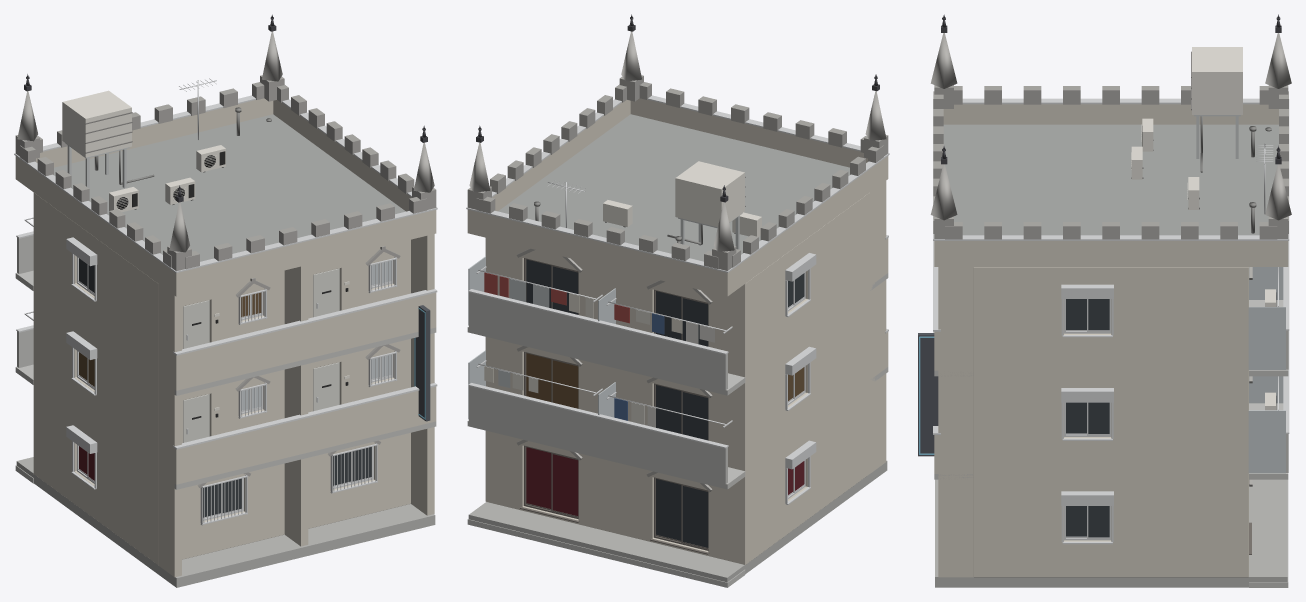
The model's file is blk_outer1_0_2.glb.
The picture shows the model from 3 angles, left to right: view 1: azimuth 30°, elevation 25°; view 2: azimuth 150°, elevation 25°; view 3: azimuth 270°, elevation 25°; orthographic projection. The views are drawn at different scales.
Visible parts, largest first — view 1: blk_outer1_0_2; view 2: blk_outer1_0_2; view 3: blk_outer1_0_2.
Part boxes in pixels (x1=…): blk_outer1_0_2: x1=14, y1=14, x2=437, y2=587; blk_outer1_0_2: x1=466, y1=14, x2=889, y2=587; blk_outer1_0_2: x1=918, y1=14, x2=1291, y2=587.
Size of the model in its own units: 8.86 by 12.3 by 9.5.
